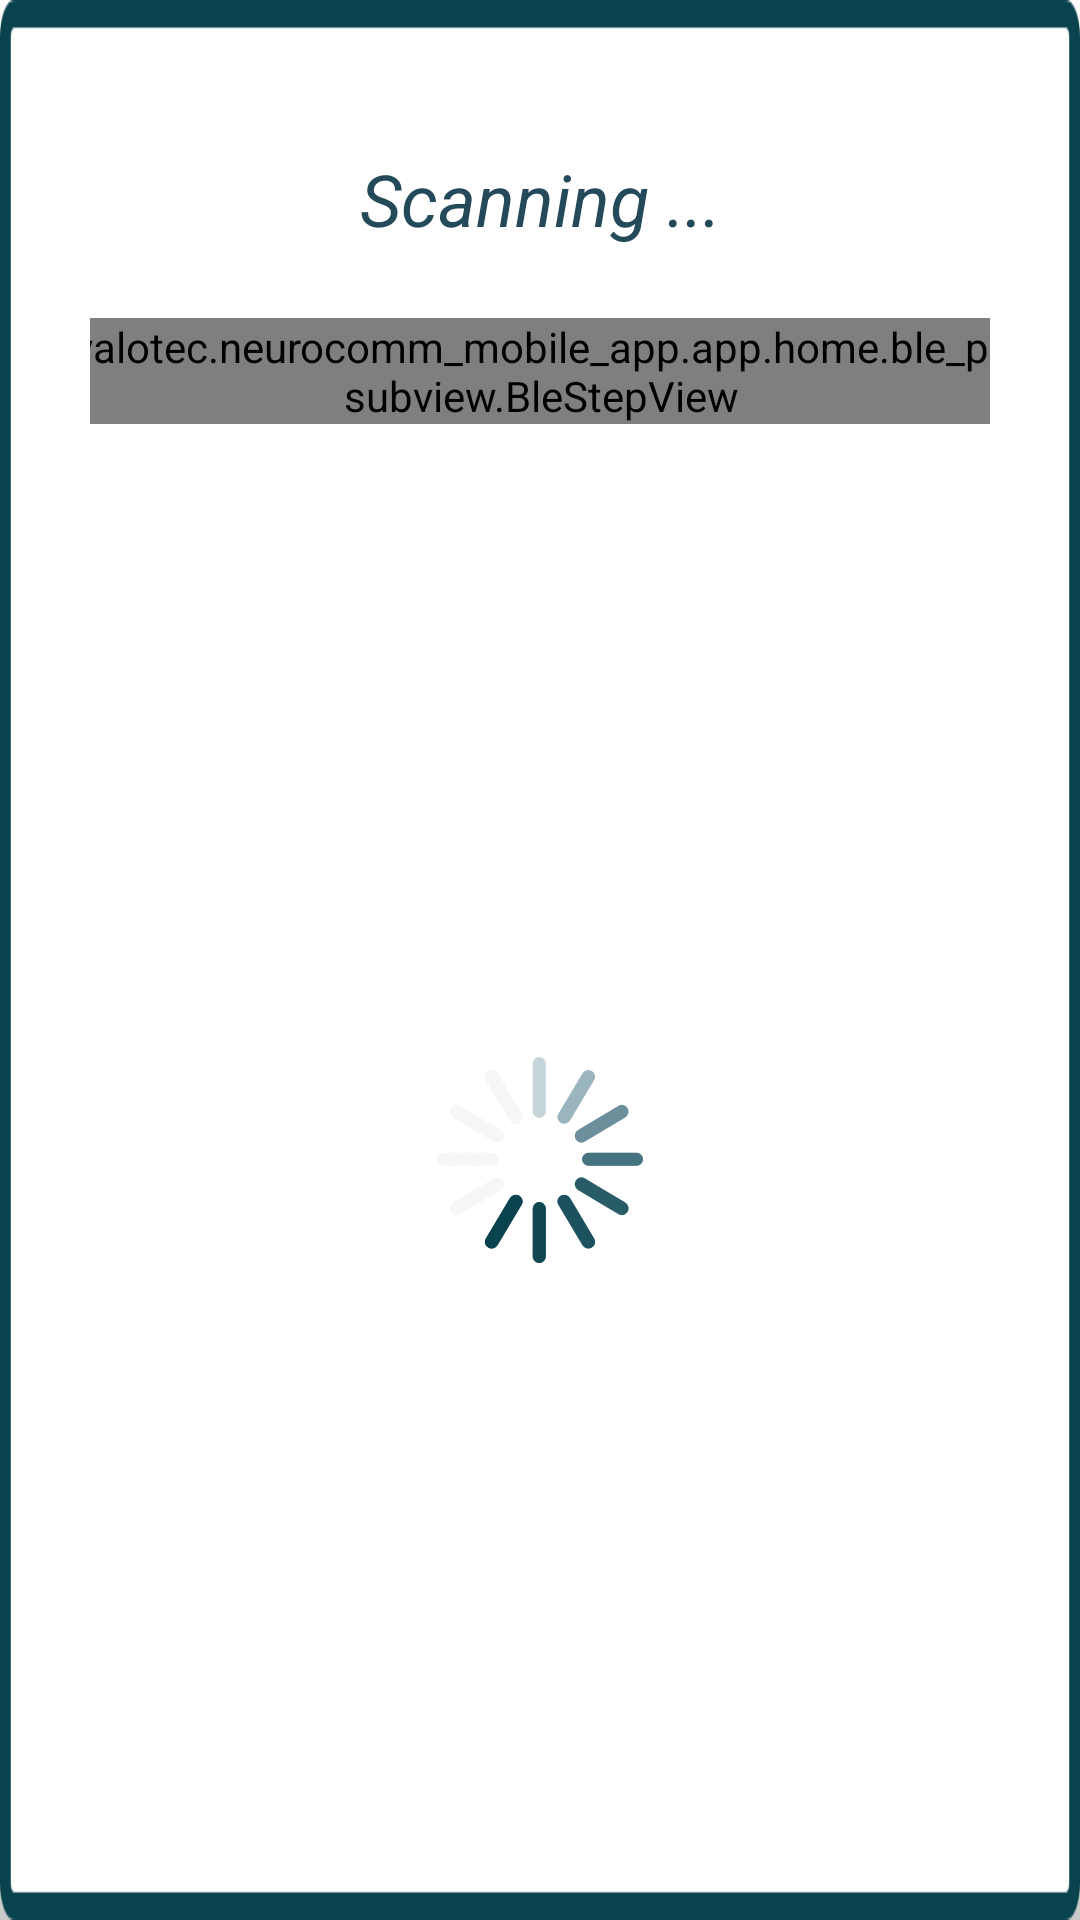

Icons on this 1080px×1920px Android screen, each with its box as [x1=x1, y1=y1, x2=x2, y2=y2]:
ble loading: [x1=484, y1=1057, x2=643, y2=1263]
